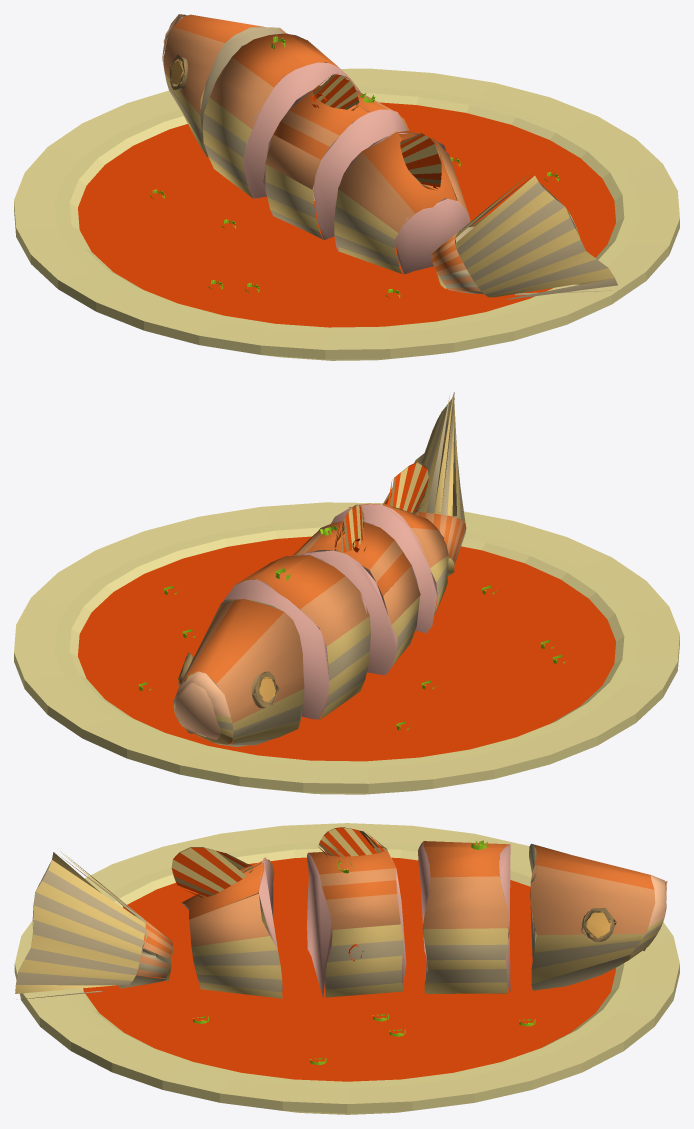
Rendered from fish.glb.
3 views of the same model, one above another, from view 1: azimuth 30°, elevation 25°; view 2: azimuth 150°, elevation 25°; view 3: azimuth 270°, elevation 25° (orthographic).
Parts seen in each view (by area): view 1: all; view 2: all; view 3: all.
Part boxes in pixels (<box>): all: <box>14,14,679,360</box>; all: <box>14,392,679,794</box>; all: <box>14,823,679,1114</box>.
Size of the model in its own units: 1.2 by 0.3757 by 1.2.
